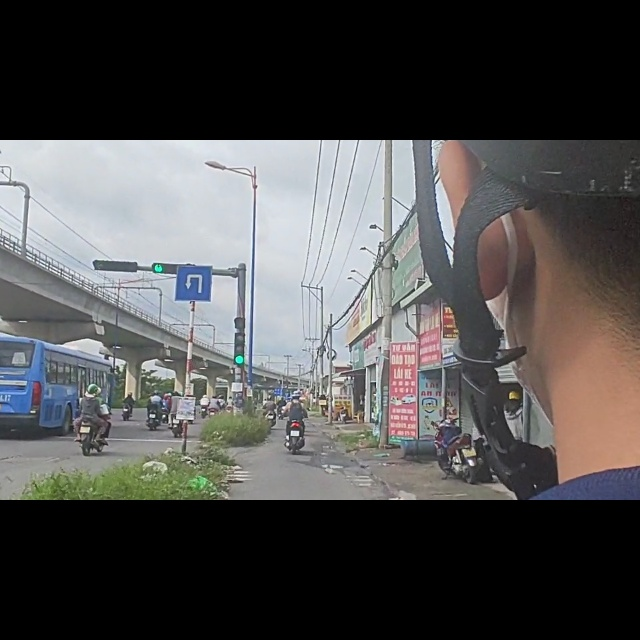bien_chi_dan: (174, 218, 215, 292)
